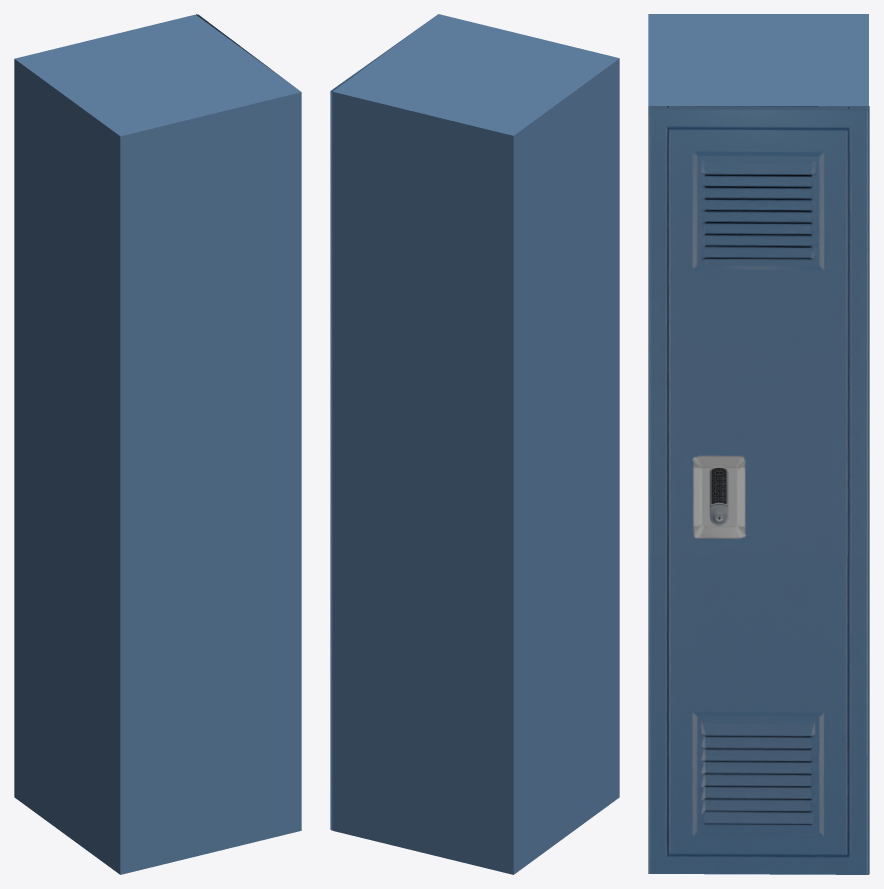
The model's file is Locker.fbx.
3 views of the same model, side by side, from view 1: azimuth 30°, elevation 25°; view 2: azimuth 150°, elevation 25°; view 3: azimuth 270°, elevation 25° (orthographic). The views are drawn at different scales.
Visible parts, largest first — view 1: LockerMain; view 2: LockerMain, LockerDoor; view 3: LockerDoor, LockerMain.
Part boxes in pixels (box(x1,y1,x2,y2)): LockerMain: box(14, 14, 301, 874); LockerMain: box(332, 14, 619, 874); LockerDoor: box(330, 19, 430, 830); LockerDoor: box(648, 106, 869, 874); LockerMain: box(648, 14, 868, 106).
Bounding box in the file's own units: 210 × 807 × 211.
Materials: 1 (1 with a texture image).
